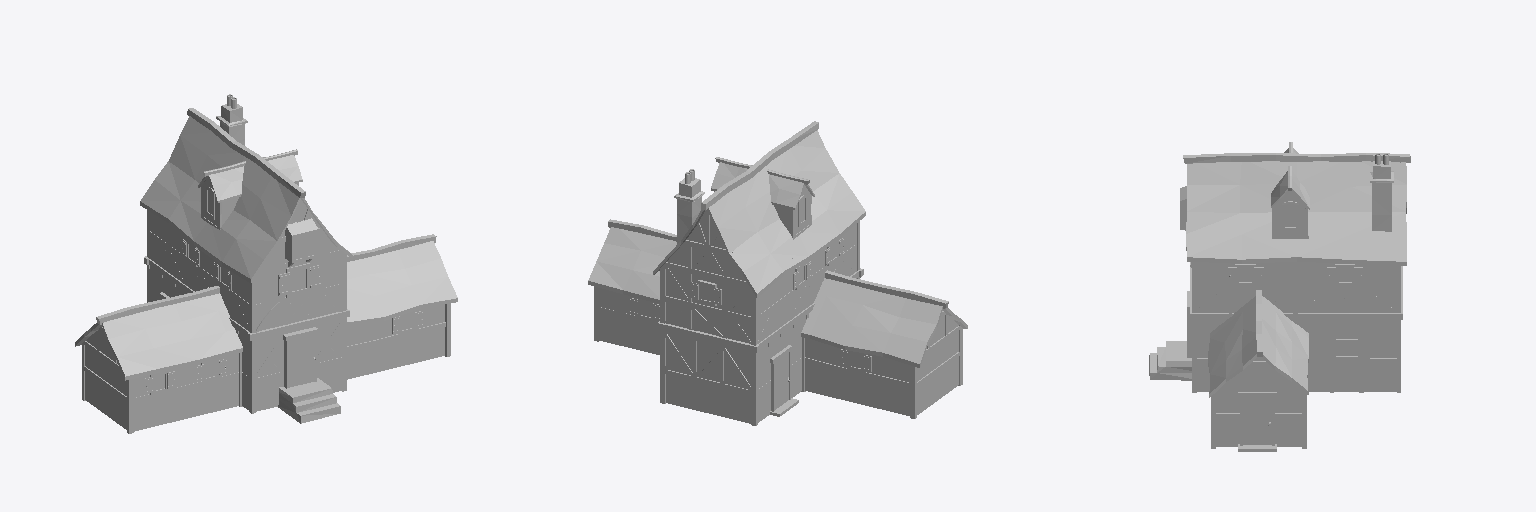
Rendered from stoneHouse2.obj.
The picture shows the model from 3 angles: view 1: azimuth 30°, elevation 25°; view 2: azimuth 150°, elevation 25°; view 3: azimuth 270°, elevation 25°; orthographic projection.
Parts seen in each view (by area): view 1: Roof, Level1, WoodenBeams, Level2, RoofFrame, WindowFrames, Steps, DoorFront, Chimney, DoorFrontFrame; view 2: Roof, Level1, WoodenBeams, Level2, RoofFrame, WindowFrames, Chimney, DoorBack; view 3: Roof, Level1, WoodenBeams, Level2, RoofFrame, WindowFrames, Steps, Chimney, DoorSide, Level3, Window1Level1.
Boxes of the visible parts, x1,y1,x2,y2 form: Roof: [103, 116, 457, 376]; Level1: [85, 269, 444, 431]; WoodenBeams: [82, 176, 450, 433]; Level2: [150, 200, 341, 330]; RoofFrame: [75, 108, 457, 380]; WindowFrames: [145, 187, 422, 394]; Steps: [278, 378, 340, 423]; DoorFront: [289, 334, 313, 387]; Chimney: [216, 104, 247, 145]; DoorFrontFrame: [283, 327, 317, 388]; Roof: [588, 130, 942, 363]; Level1: [599, 288, 958, 423]; WoodenBeams: [594, 185, 962, 425]; Level2: [666, 211, 856, 342]; RoofFrame: [588, 121, 967, 367]; WindowFrames: [630, 195, 871, 372]; Chimney: [674, 178, 704, 243]; DoorBack: [775, 353, 788, 409]; Roof: [1186, 148, 1406, 393]; Level1: [1197, 322, 1396, 446]; WoodenBeams: [1190, 191, 1402, 448]; Level2: [1197, 262, 1396, 312]; RoofFrame: [1183, 142, 1410, 397]; WindowFrames: [1180, 186, 1362, 357]; Steps: [1149, 341, 1191, 380]; Chimney: [1370, 161, 1393, 231]; DoorSide: [1243, 397, 1271, 444]; Level3: [1275, 191, 1305, 235]; Window1Level1: [1336, 324, 1357, 355].
Bounding box in the file's own units: 15.09 × 9.79 × 10.13.